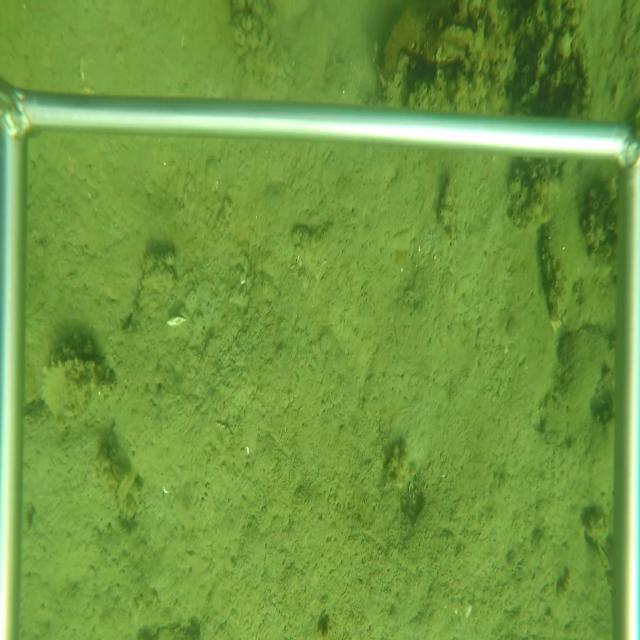Oyster-Indeterminate: (40, 355, 118, 425)
